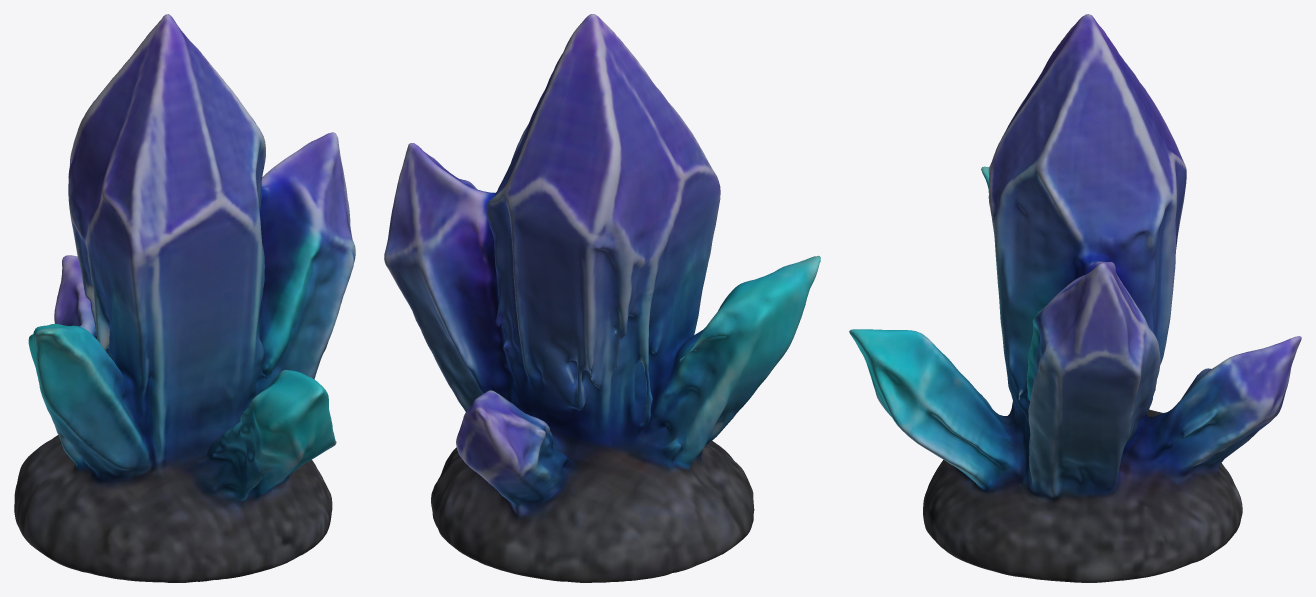
Rendered from 92a56fb707f3_glowing_crystal_mod.fbx.
3 renders of one model, left to right at view 1: azimuth 30°, elevation 25°; view 2: azimuth 150°, elevation 25°; view 3: azimuth 270°, elevation 25°, orthographic.
Visible parts, largest first — view 1: high_poly; view 2: high_poly; view 3: high_poly.
Boxes of the visible parts, x1=… form: high_poly: x1=14, y1=14, x2=355, y2=582; high_poly: x1=384, y1=14, x2=820, y2=582; high_poly: x1=849, y1=14, x2=1301, y2=582.
Bounding box in the file's own units: 75.22 × 100 × 81.54.
